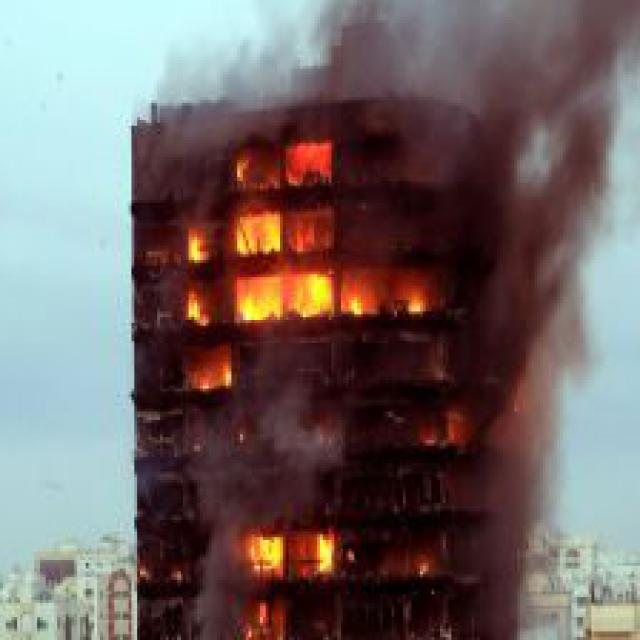fire: (186, 194, 423, 326)
